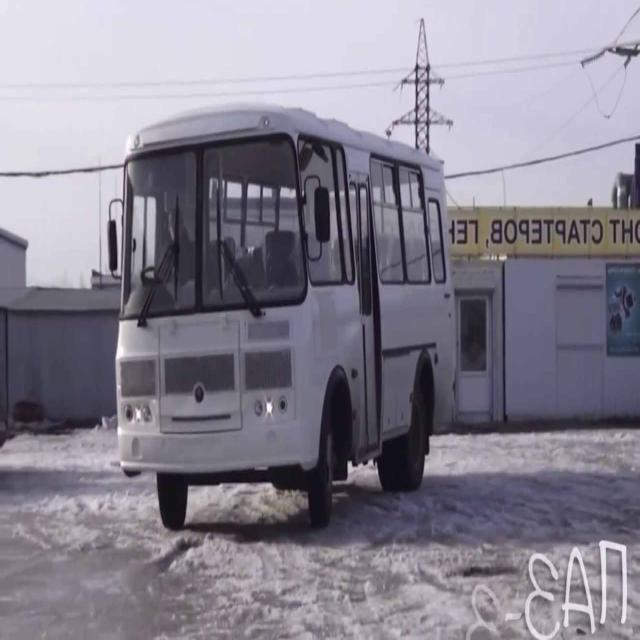bus: (106, 99, 465, 532)
